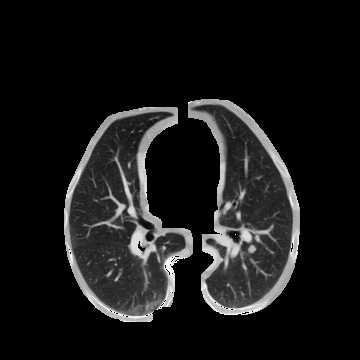PN: (248, 245, 256, 253)
